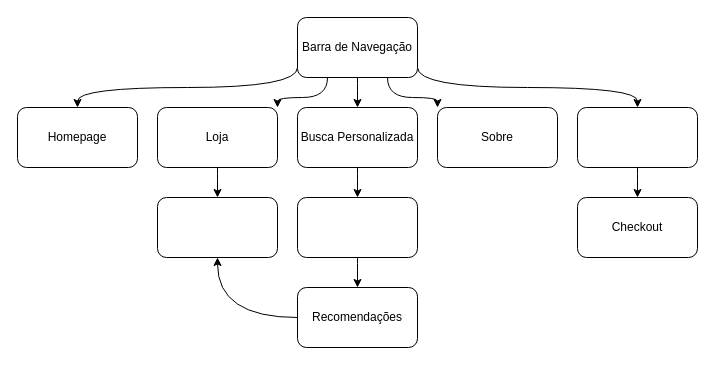
The diagram is 715 pixels wide and 365 high, and some of its shapes have lost their labels. The centre of each missing label's shape, as x and y in pixels:
"Carrinho" belongs at (637,137).
"Produto" belongs at (217,227).
"Página do Quiz" belongs at (357,227).
